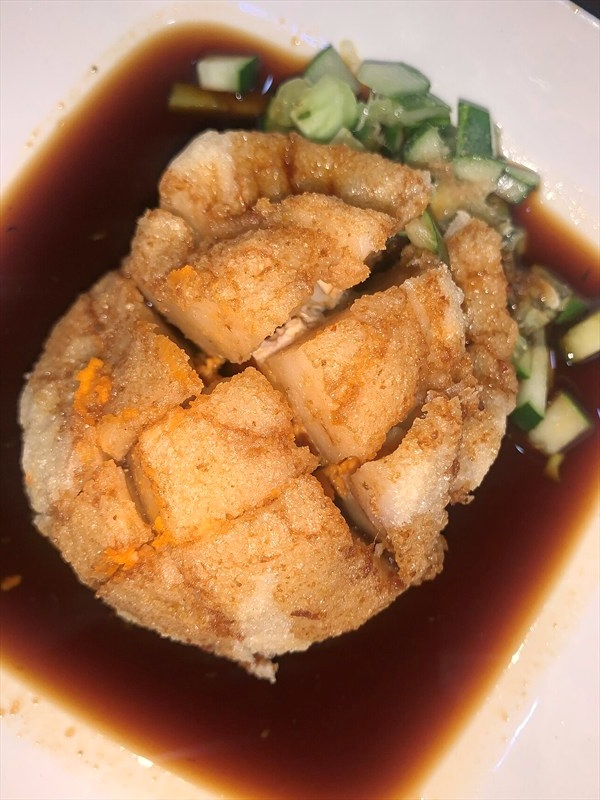Pempek: (58, 72, 572, 715)
